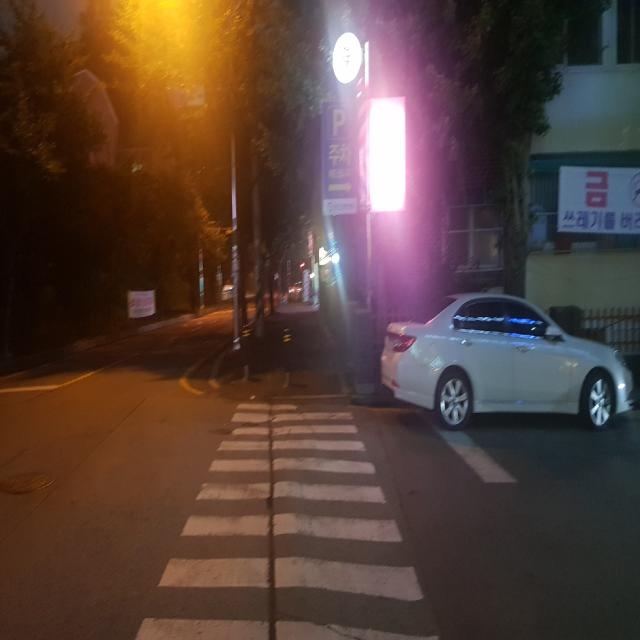횡단보도: (133, 401, 440, 640)
